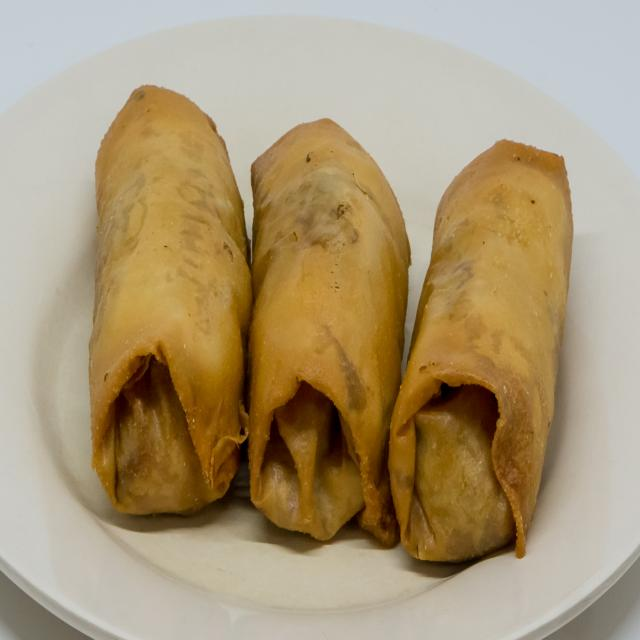Lumpia-Semarang: (73, 62, 583, 576)
